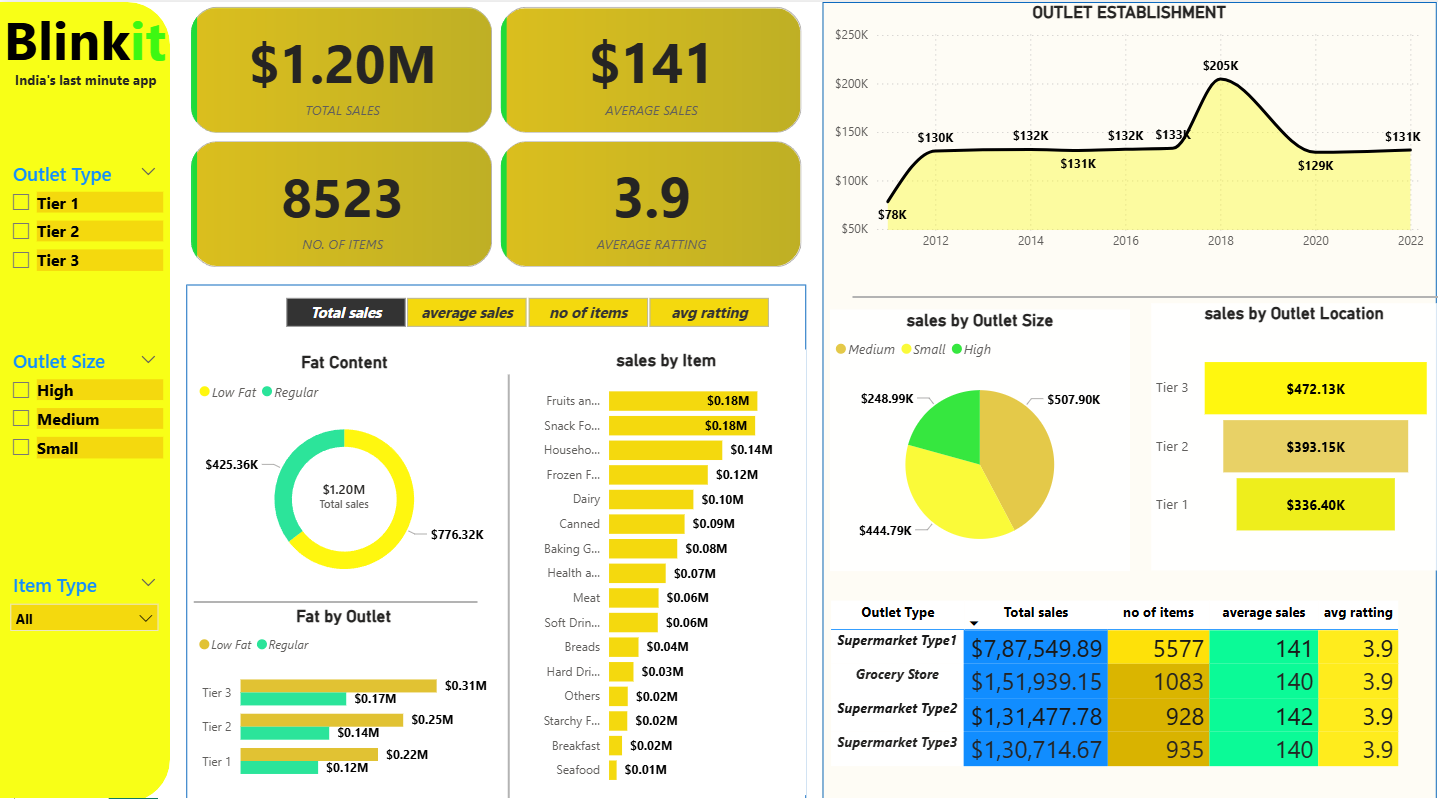

What the dashboard file says about the page in this screenshot:
{"tool":"powerbi","page":{"name":"Page 1","canvas":[1450,805],"ordinal":0},"visuals":[{"type":"shape","box":[0,0,170,800],"z":0},{"type":"textbox","box":[10,63.8,160,43.8],"z":1000},{"type":"cardVisual","fields":{"Data":["BlinkIT Grocery Data.Total sales","BlinkIT Grocery Data.average sales","BlinkIT Grocery Data.no of items","BlinkIT Grocery Data.avg ratting"]},"box":[185.7,0,620,270],"z":2000},{"type":"shape","box":[185.7,282.9,620,517.1],"z":3000},{"type":"donutChart","title":" Fat Content","fields":{"Y":["BlinkIT Grocery Data.Total sales"],"Category":["BlinkIT Grocery Data.Item Fat Content"]},"box":[194.3,350,301.4,245.7],"z":4000},{"type":"slicer","fields":{"Values":["Metrics.Metrics"]},"box":[260,288.6,532.9,42.9],"z":5000},{"type":"cardVisual","fields":{"Data":["BlinkIT Grocery Data.Total sales"]},"box":[290,458.6,108.6,68.6],"z":6000},{"type":"clusteredBarChart","title":"Fat by Outlet","fields":{"Y":["BlinkIT Grocery Data.Total sales"],"Category":["BlinkIT Grocery Data.Outlet Location Type"],"Series":["BlinkIT Grocery Data.Item Fat Content"]},"box":[194.3,604.3,300,188.6],"z":7000},{"type":"shape","box":[193.8,593.8,283.8,12.5],"z":8000},{"type":"shape","box":[502.5,372.5,12.5,446.2],"z":9000},{"type":"barChart","title":" sales by Item","fields":{"Y":["BlinkIT Grocery Data.Total sales"],"Category":["BlinkIT Grocery Data.Item Type"]},"box":[525.7,347.1,280,445.7],"z":10000},{"type":"slicer","fields":{"Values":["BlinkIT Grocery Data.Outlet Location Type"]},"box":[0,153.3,168.3,130],"z":11000},{"type":"slicer","fields":{"Values":["BlinkIT Grocery Data.Outlet Size"]},"box":[0,341.7,168.3,126.7],"z":12000},{"type":"slicer","fields":{"Values":["BlinkIT Grocery Data.Item Type"]},"box":[0,565,168.3,78.3],"z":13000},{"type":"shape","box":[822.9,0,614.3,800],"z":14000},{"type":"lineChart","title":"OUTLET ESTABLISHMENT","fields":{"Category":["BlinkIT Grocery Data.Outlet Establishment Year"],"Y":["BlinkIT Grocery Data.Total sales"]},"box":[830,0,598.6,257.1],"z":15000},{"type":"shape","box":[852.5,288.8,616.2,12.5],"z":16000},{"type":"pieChart","title":" sales by Outlet Size","fields":{"Category":["BlinkIT Grocery Data.Outlet Size"],"Y":["BlinkIT Grocery Data.Total sales"]},"box":[830,307.1,300,261.4],"z":17000},{"type":"funnel","title":" sales by Outlet Location ","fields":{"Y":["BlinkIT Grocery Data.Total sales"],"Category":["BlinkIT Grocery Data.Outlet Location Type"]},"box":[1151.4,301.4,285.7,267.1],"z":18000},{"type":"pivotTable","fields":{"Rows":["BlinkIT Grocery Data.Outlet Type"],"Values":["BlinkIT Grocery Data.Total sales","BlinkIT Grocery Data.no of items","BlinkIT Grocery Data.average sales","BlinkIT Grocery Data.avg ratting"]},"box":[825.7,594.3,602.9,195.7],"z":19000},{"type":"textbox","title":"Blinkit","box":[0,0,170,78.6],"z":20000}]}

Visuals, with their boxes in screenshot pixels (x1, y1, x2, y2), scaled from the page's 1450x805 canvas onto the 1438x799 screenshot:
shape: BBox(0, 0, 169, 794)
textbox: BBox(10, 63, 169, 107)
cardVisual - BlinkIT Grocery Data.Total sales x BlinkIT Grocery Data.average sales: BBox(184, 0, 799, 268)
shape: BBox(184, 281, 799, 794)
" Fat Content" donutChart: BBox(193, 347, 492, 591)
slicer - Metrics.Metrics: BBox(258, 286, 786, 329)
cardVisual - BlinkIT Grocery Data.Total sales: BBox(288, 455, 395, 523)
"Fat by Outlet" clusteredBarChart: BBox(193, 600, 490, 787)
shape: BBox(192, 589, 474, 602)
shape: BBox(498, 370, 511, 798)
" sales by Item" barChart: BBox(521, 345, 799, 787)
slicer - BlinkIT Grocery Data.Outlet Location Type: BBox(0, 152, 167, 281)
slicer - BlinkIT Grocery Data.Outlet Size: BBox(0, 339, 167, 465)
slicer - BlinkIT Grocery Data.Item Type: BBox(0, 561, 167, 639)
shape: BBox(816, 0, 1425, 794)
"OUTLET ESTABLISHMENT" lineChart: BBox(823, 0, 1417, 255)
shape: BBox(845, 287, 1437, 299)
" sales by Outlet Size" pieChart: BBox(823, 305, 1121, 564)
" sales by Outlet Location " funnel: BBox(1142, 299, 1425, 564)
pivotTable - BlinkIT Grocery Data.Outlet Type x BlinkIT Grocery Data.Total sales: BBox(819, 590, 1417, 784)
"Blinkit" textbox: BBox(0, 0, 169, 78)
